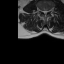CCS_normal: (44, 9, 46, 17)
LFS_normal: (48, 8, 49, 13)
LLS_normal: (46, 9, 47, 15)
RFS_normal: (41, 8, 43, 14)
RLS_normal: (42, 9, 44, 15)
